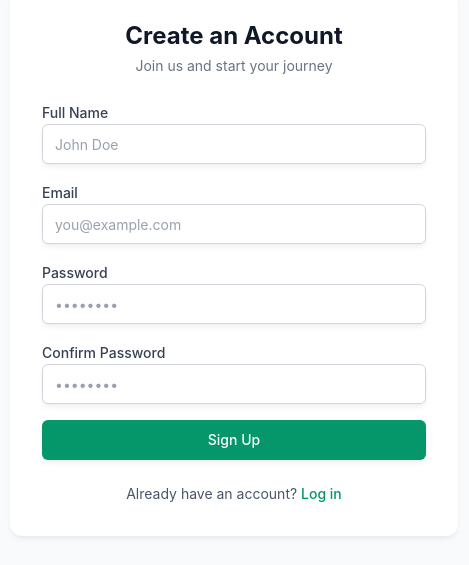
Test: Register › shows validation error for short password
Type "John" into the field labelled "Full Name".
click(234, 144); type("John")  # box [42,124,426,164]
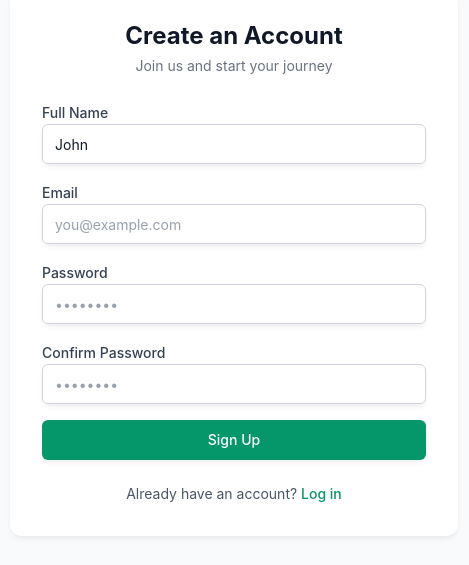
Type "user@example.com" into the field labelled "Email".
click(234, 224); type("user@example.com")  # box [42,204,426,244]
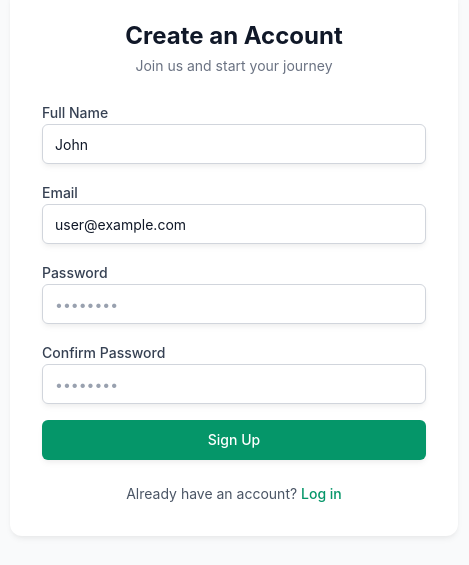
Type "123" into the password field labelled "Password".
click(234, 304); type("123")  # box [42,284,426,324]
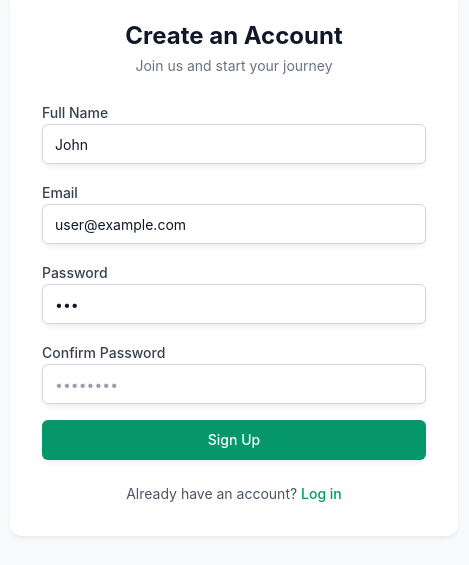
Type "123" into the password field labelled "Confirm Password".
click(234, 384); type("123")  # box [42,364,426,404]
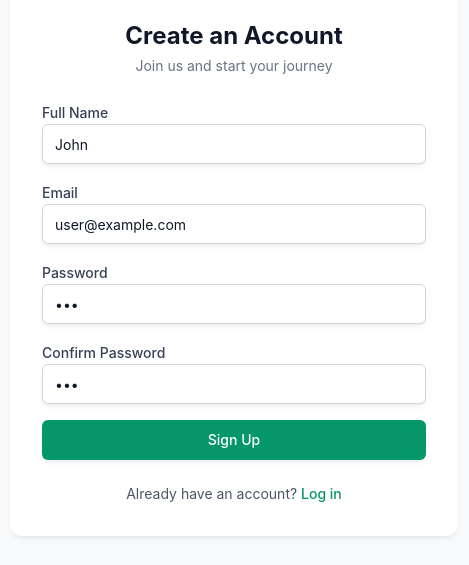
Submit the form "Full Name Email Password Confirm Password Sign Up", box [42,100,426,460]
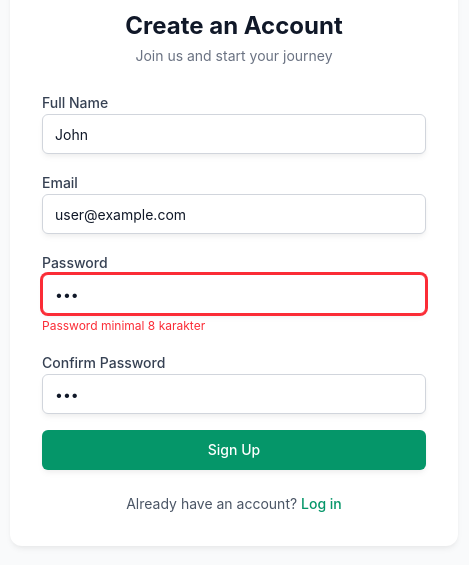
Expected: the text "Password minimal 8 karakter" is shown, [42,318,205,333]
